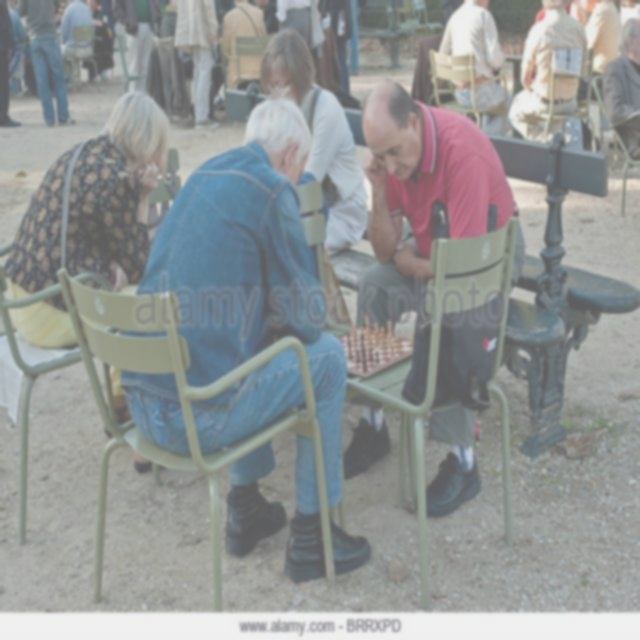pessoa: (118, 82, 374, 583), (340, 78, 528, 521), (3, 87, 175, 439), (256, 25, 370, 262), (507, 0, 589, 147), (436, 0, 516, 140), (574, 0, 624, 153), (160, 0, 221, 125), (15, 0, 75, 127), (173, 0, 221, 129), (601, 15, 639, 164), (221, 0, 268, 96), (123, 0, 159, 106), (59, 0, 94, 89), (82, 0, 116, 84), (5, 0, 30, 99), (275, 0, 312, 48), (527, 0, 590, 25), (53, 0, 70, 29), (254, 0, 273, 25)
